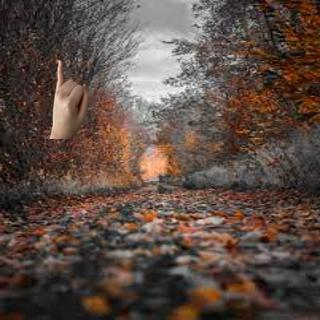Fine: (44, 55, 93, 138)
